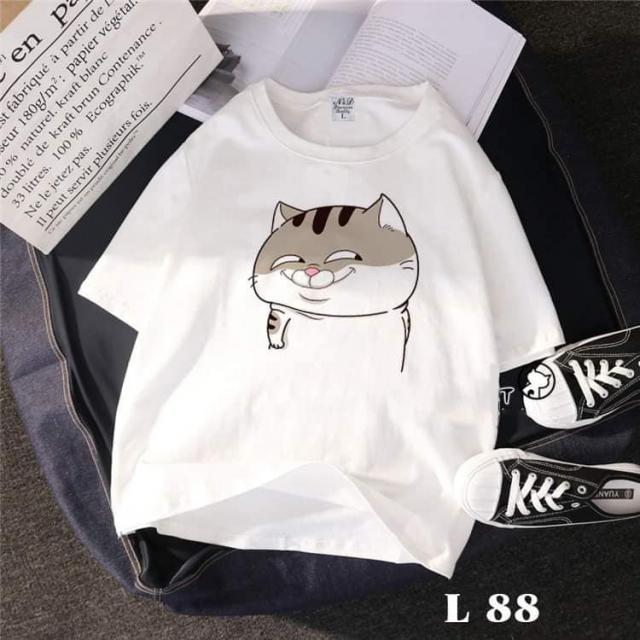Shirt: (76, 74, 573, 583)
